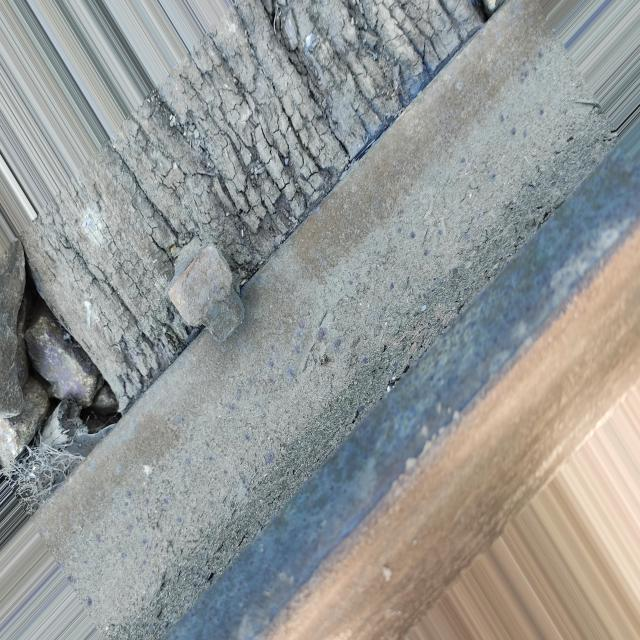Good Fasteners: (168, 237, 244, 341)
